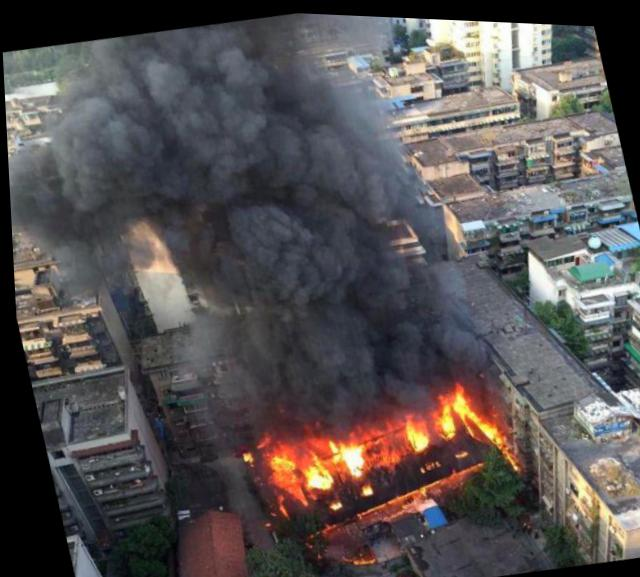fire: (260, 439, 295, 492), (284, 447, 327, 487), (358, 426, 406, 461), (327, 431, 363, 474), (395, 409, 427, 447), (464, 404, 494, 436), (433, 386, 465, 412), (426, 400, 450, 434), (353, 477, 365, 490), (319, 497, 335, 506)
